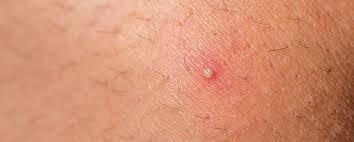blackhead: (291, 95, 319, 122)
folliculitis: (197, 59, 219, 82)
